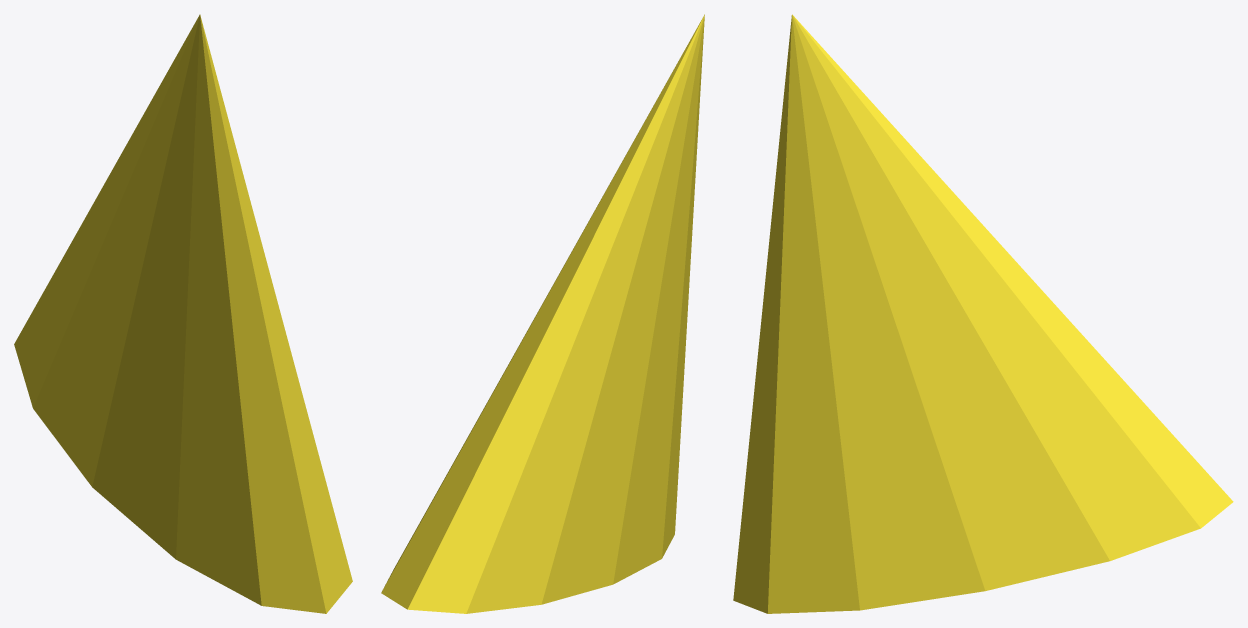
Rendered from n5_n5_group857496374_lev5.glb.
The picture shows the model from 3 angles, left to right: view 1: azimuth 30°, elevation 25°; view 2: azimuth 150°, elevation 25°; view 3: azimuth 270°, elevation 25°; orthographic projection. The views are drawn at different scales.
Visible parts, largest first — view 1: n5_n5_group857496374_lev5; view 2: n5_n5_group857496374_lev5; view 3: n5_n5_group857496374_lev5.
Boxes of the visible parts, x1,y1,x2,y2 form: n5_n5_group857496374_lev5: (14,14,352,613); n5_n5_group857496374_lev5: (381,14,704,613); n5_n5_group857496374_lev5: (733,14,1233,613).
Bounding box in the file's own units: 0.4379 × 1.36 × 1.13.
